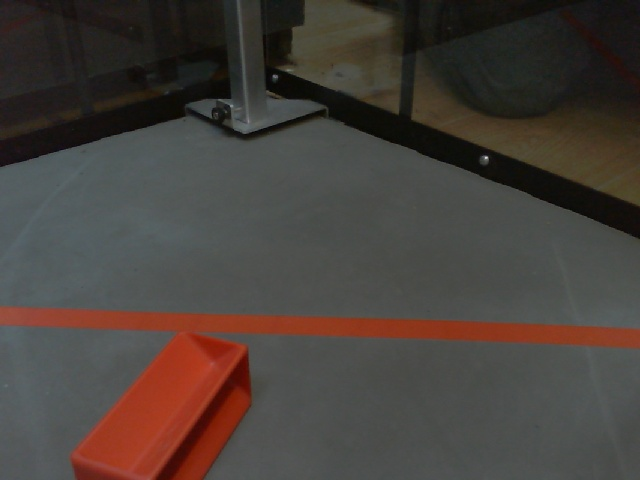RedSample: (70, 326, 256, 480)
